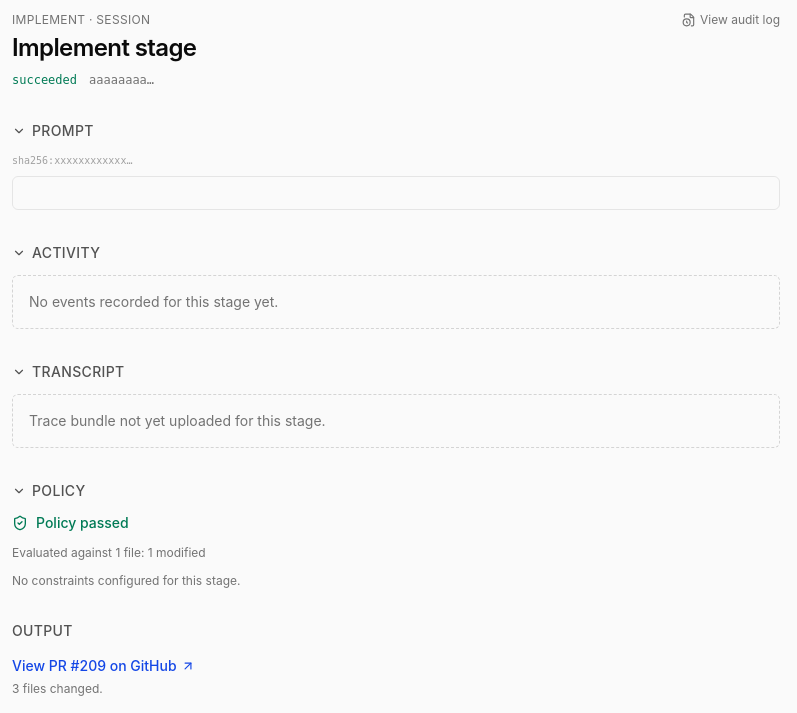
Scenario: <ImplementSessionDocument> › collapses the policy section when its header button is clicked
This screenshot has width=797, height=713.
Expected: the text "Policy passed" is shown, [12,514,129,531]
Click the button "Policy": x=49, y=491 [12,481,86,501]
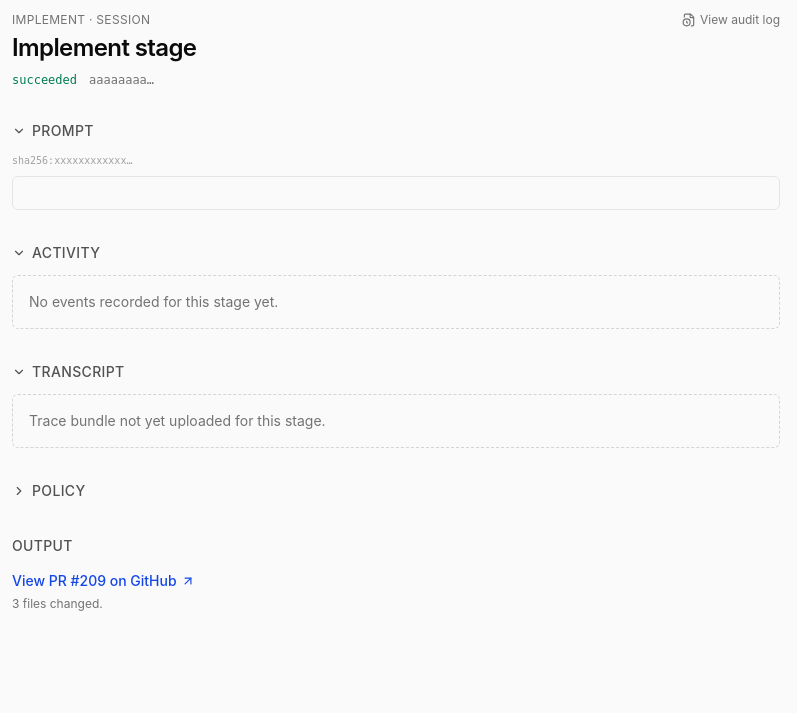
Now the button "Policy" is collapsed, box [12,481,86,501]
Now the text "Policy passed" is gone
